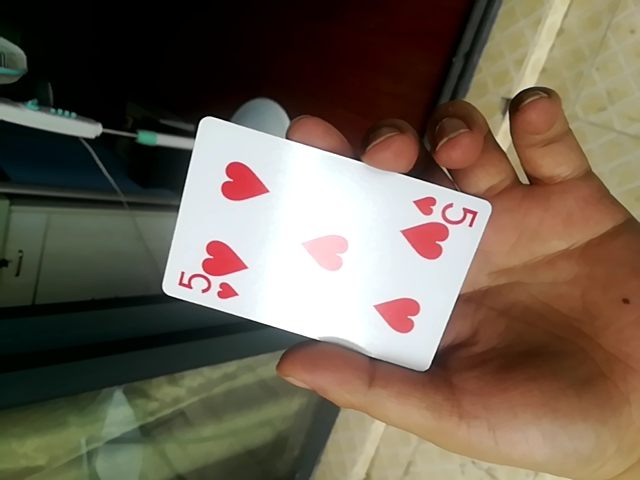hx 5: (157, 115, 495, 368)
